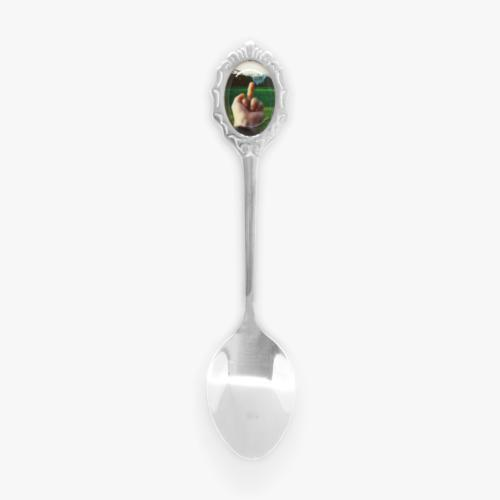spoon: (201, 45, 292, 461)
